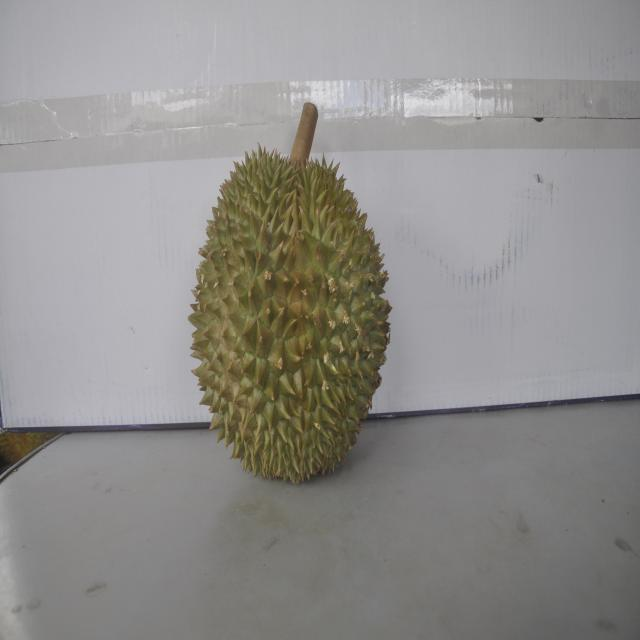mature: (190, 125, 393, 484)
